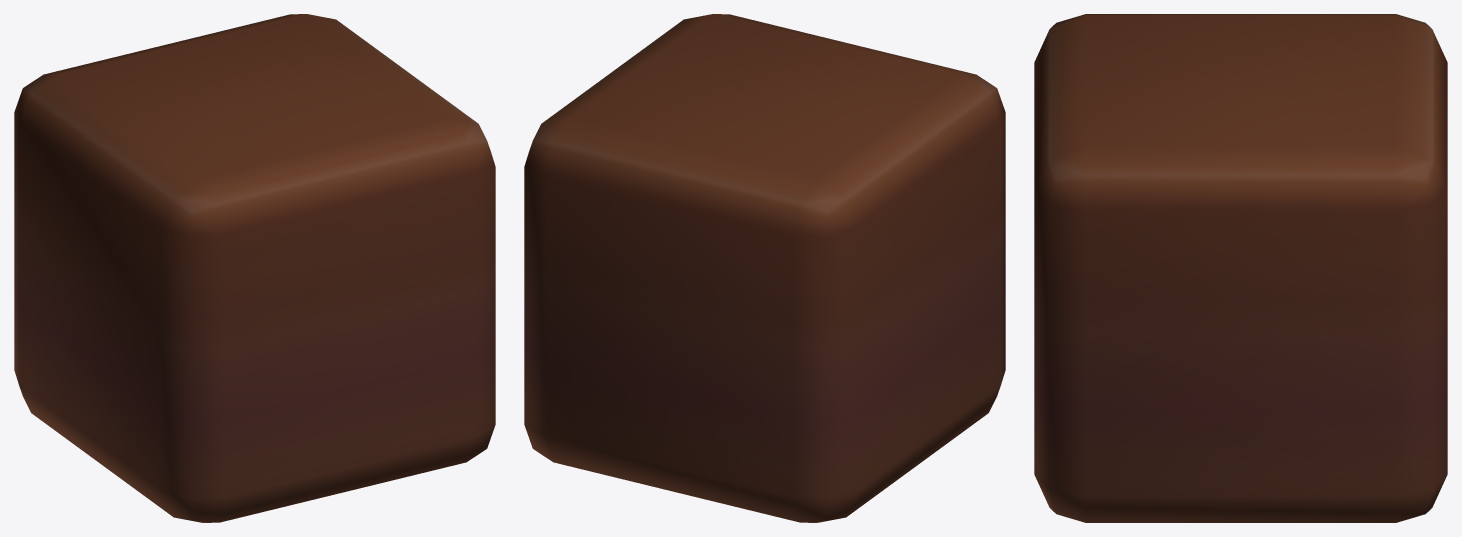
File: block_iron_mine_1_0.fbx
The picture shows the model from 3 angles, left to right: view 1: azimuth 30°, elevation 25°; view 2: azimuth 150°, elevation 25°; view 3: azimuth 270°, elevation 25°; orthographic projection. The views are drawn at different scales.
Parts seen in each view (by area): view 1: block_iron_mine_1_0; view 2: block_iron_mine_1_0; view 3: block_iron_mine_1_0.
Part boxes in pixels (x1,y1,x2,y2): block_iron_mine_1_0: [14, 14, 495, 522]; block_iron_mine_1_0: [524, 14, 1005, 522]; block_iron_mine_1_0: [1034, 14, 1447, 522].
Size of the model in its own units: 200 by 200 by 200.
